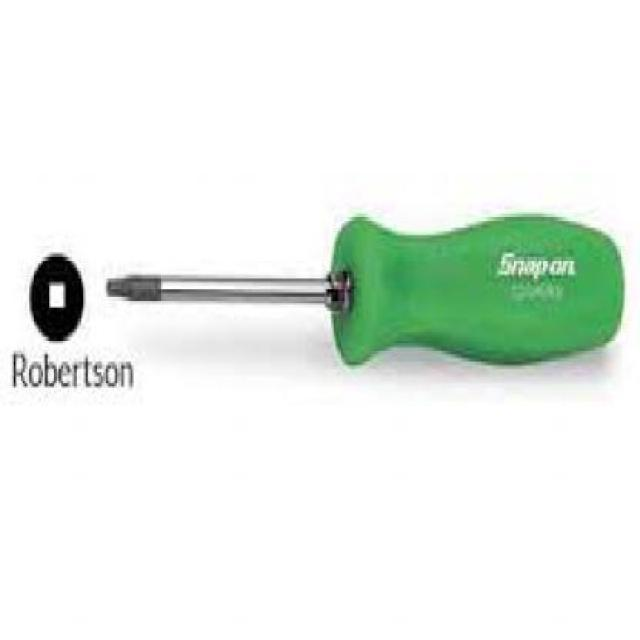screwdriver: (103, 209, 625, 369)
